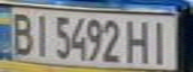2: (103, 16, 127, 63)
4: (66, 15, 87, 61)
5: (51, 12, 72, 60)
9: (84, 16, 106, 62)
B: (6, 9, 36, 56)
H: (124, 17, 154, 64)
I: (145, 17, 175, 64), (30, 11, 54, 57)
